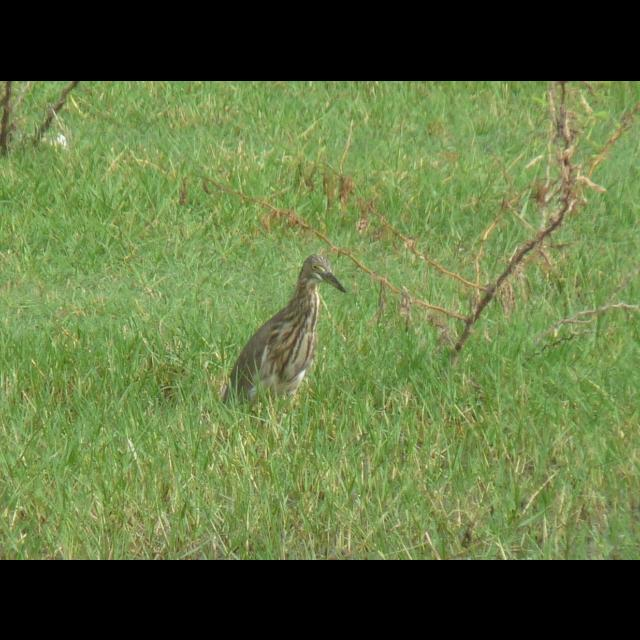heron: (229, 250, 347, 394)
